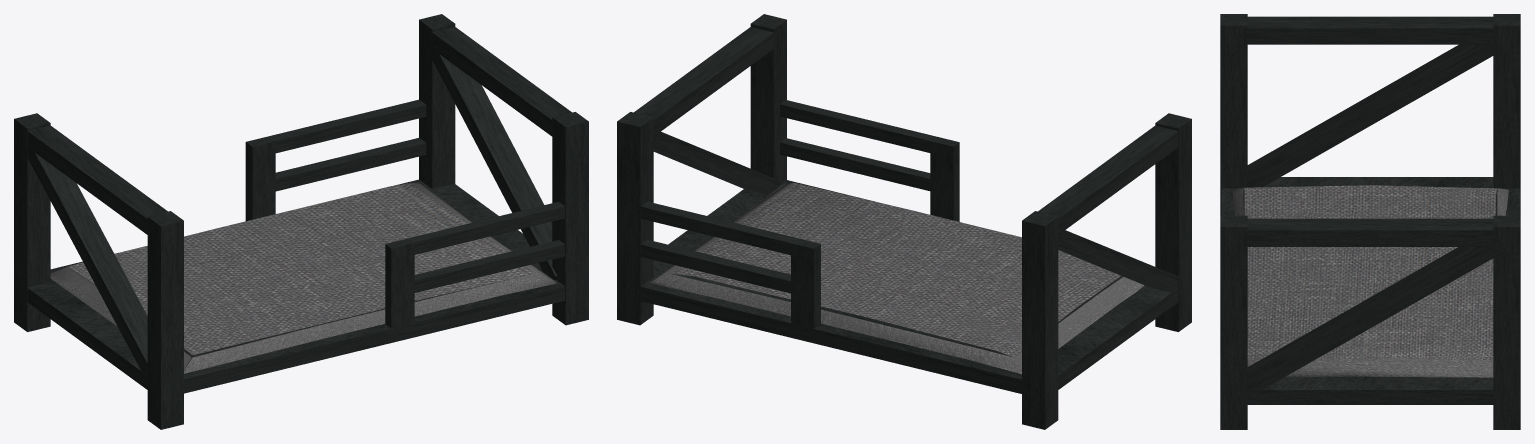
The model's file is bed.glb.
3 views of the same model, side by side, from view 1: azimuth 30°, elevation 25°; view 2: azimuth 150°, elevation 25°; view 3: azimuth 270°, elevation 25° (orthographic). The views are drawn at different scales.
Parts seen in each view (by area): view 1: bed_squid_game_multiple_slots; view 2: bed_squid_game_multiple_slots; view 3: bed_squid_game_multiple_slots.
Part boxes in pixels (bbox=[...]): bed_squid_game_multiple_slots: bbox=[14, 14, 588, 429]; bed_squid_game_multiple_slots: bbox=[617, 14, 1191, 429]; bed_squid_game_multiple_slots: bbox=[1220, 14, 1520, 429].
Bounding box in the file's own units: 7.4 × 3.37 × 4.4.
Materials: 2 (2 with a texture image).
